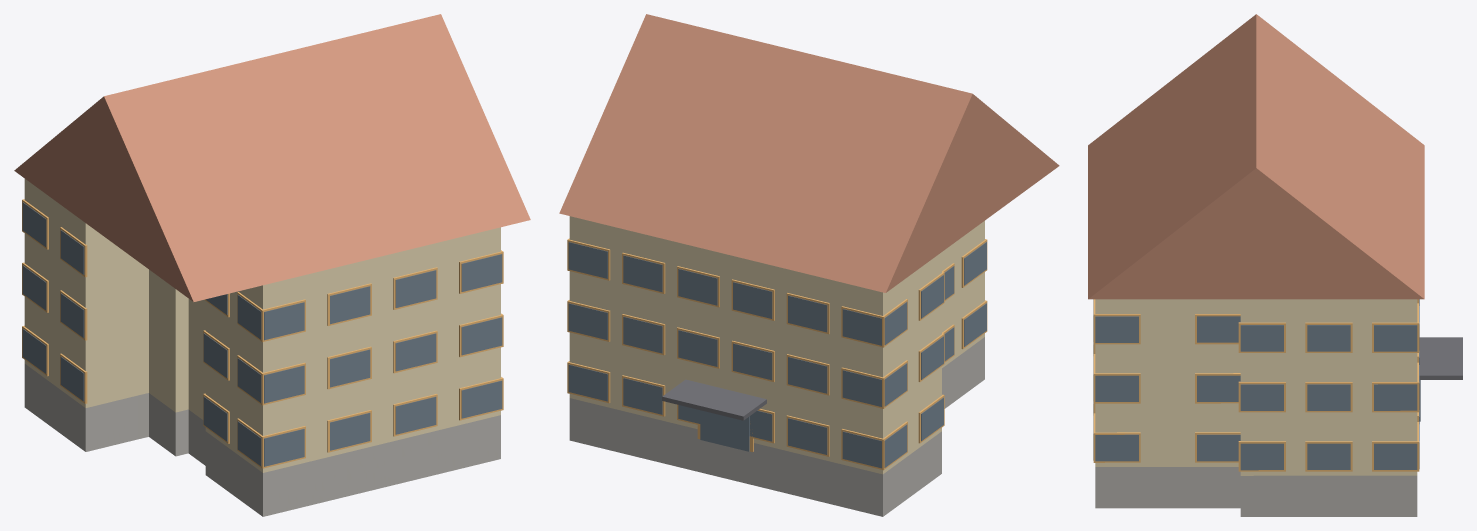
Rendered from kindergarten-30483982.glb.
3 views of the same model, side by side, from view 1: azimuth 30°, elevation 25°; view 2: azimuth 150°, elevation 25°; view 3: azimuth 270°, elevation 25° (orthographic). The views are drawn at different scales.
Visible parts, largest first — view 1: building; view 2: building; view 3: building.
Part boxes in pixels (x1,y1,x2,y2): building: [14, 14, 530, 516]; building: [559, 14, 1059, 516]; building: [1088, 14, 1462, 516].
Bounding box in the file's own units: 20.07 × 21.38 × 20.63.
